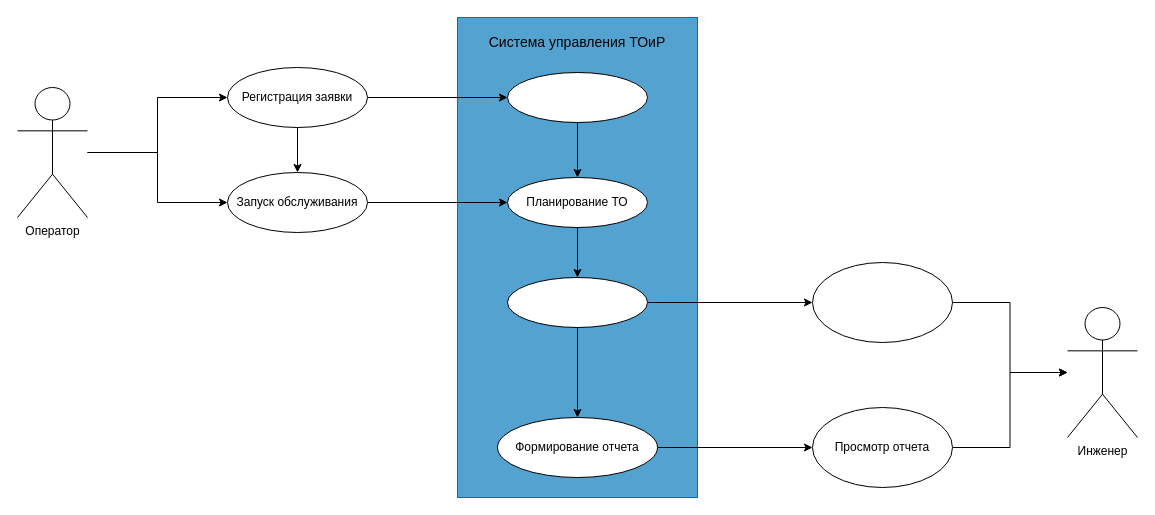
This 1155x515 diagram has some shape labels left out. Each missing label, with the centre of its shape:
Анализ состояния оборудования: [882,302]
Контроль состояния оборудования: [577,302]
Обработка заявки: [577,97]
